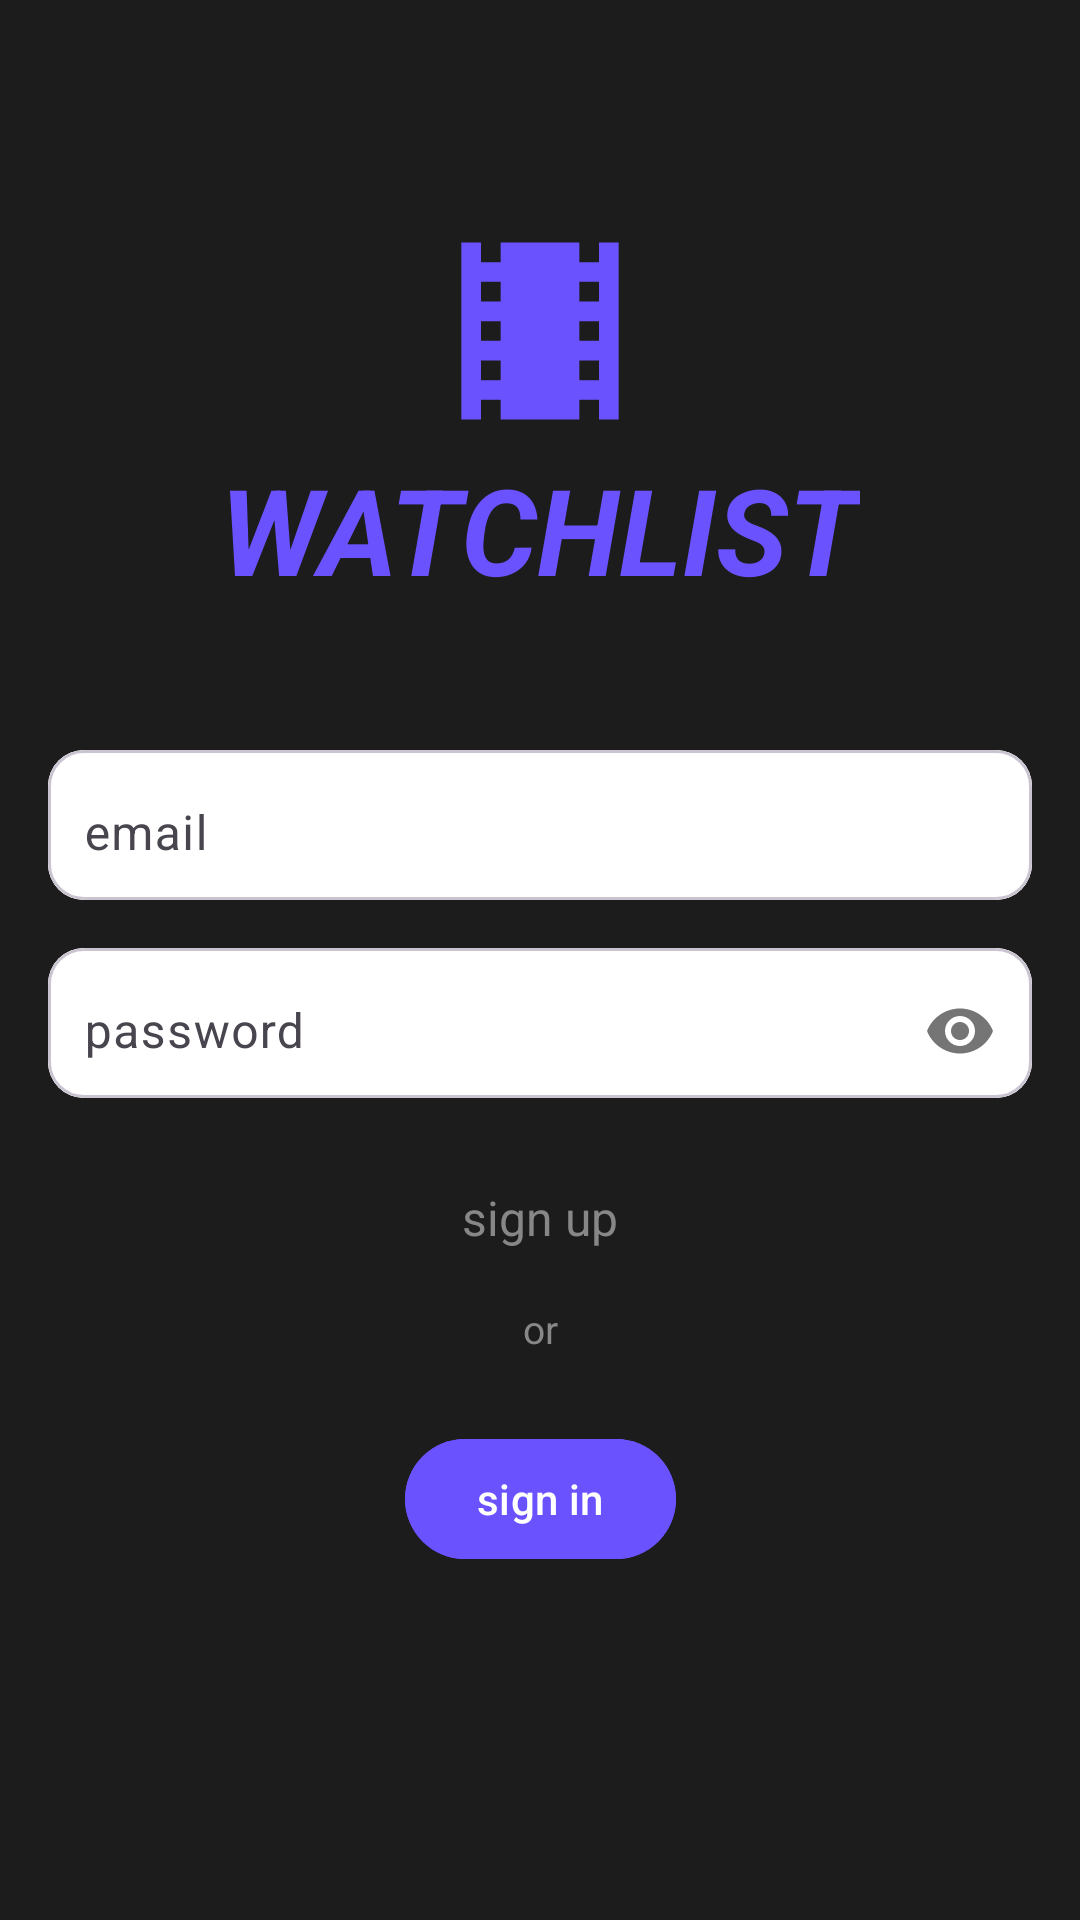

Icon click points for this 1080x1920 phone screenshot, format [x,y]:
movie icon: [540,331]
